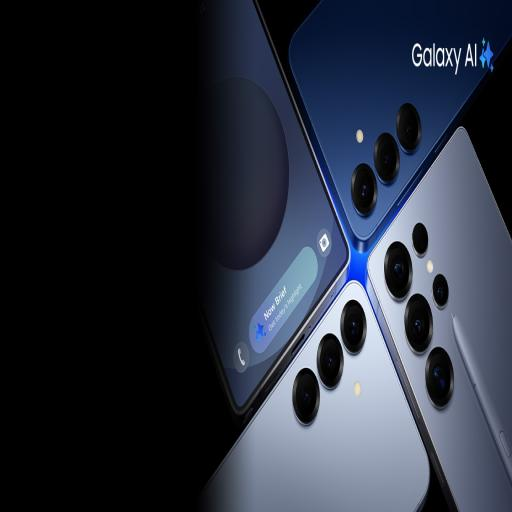phone: (362, 119, 510, 511)
